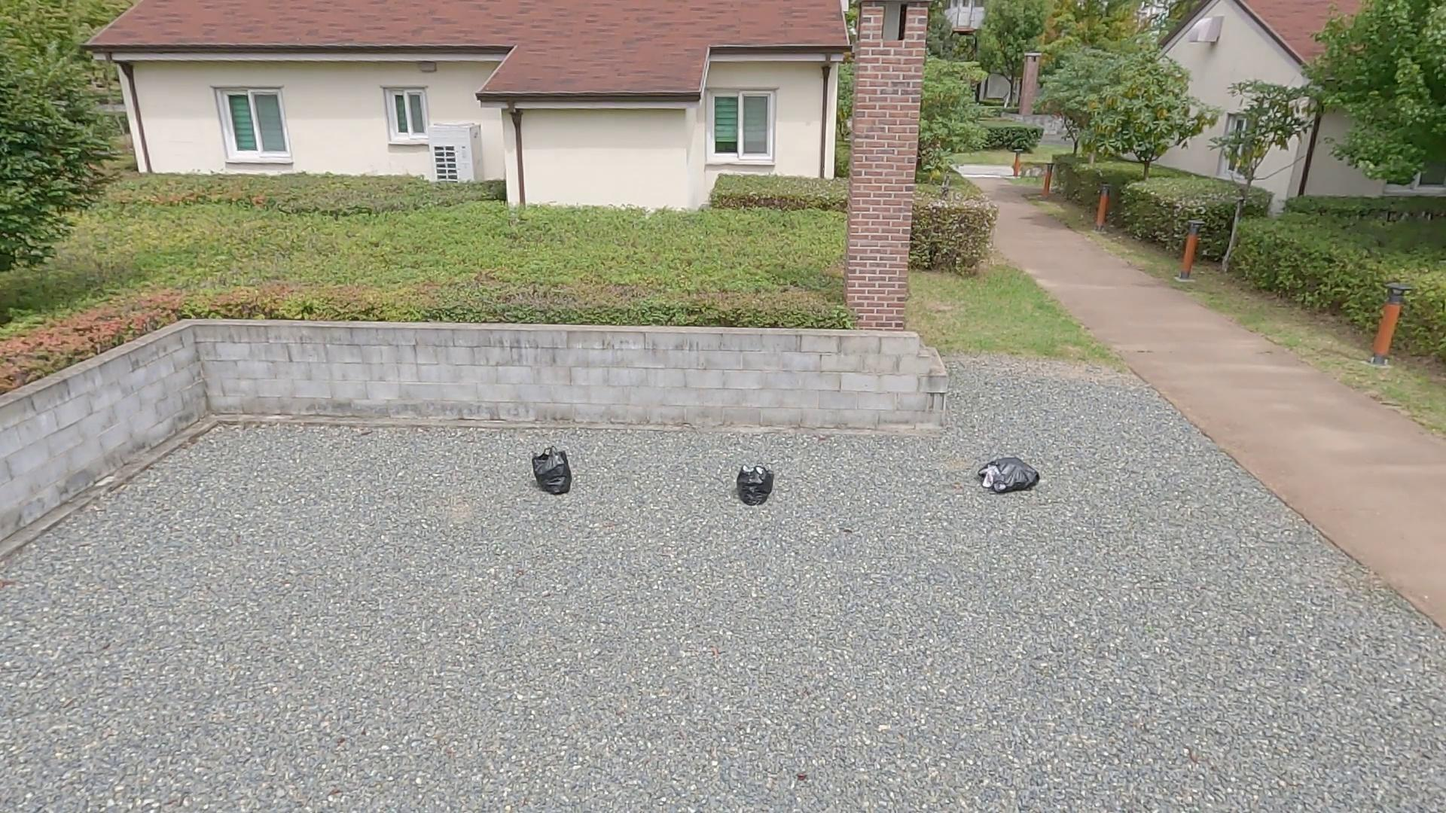trash: (973, 455, 1046, 495), (527, 442, 576, 498), (731, 463, 780, 508)
